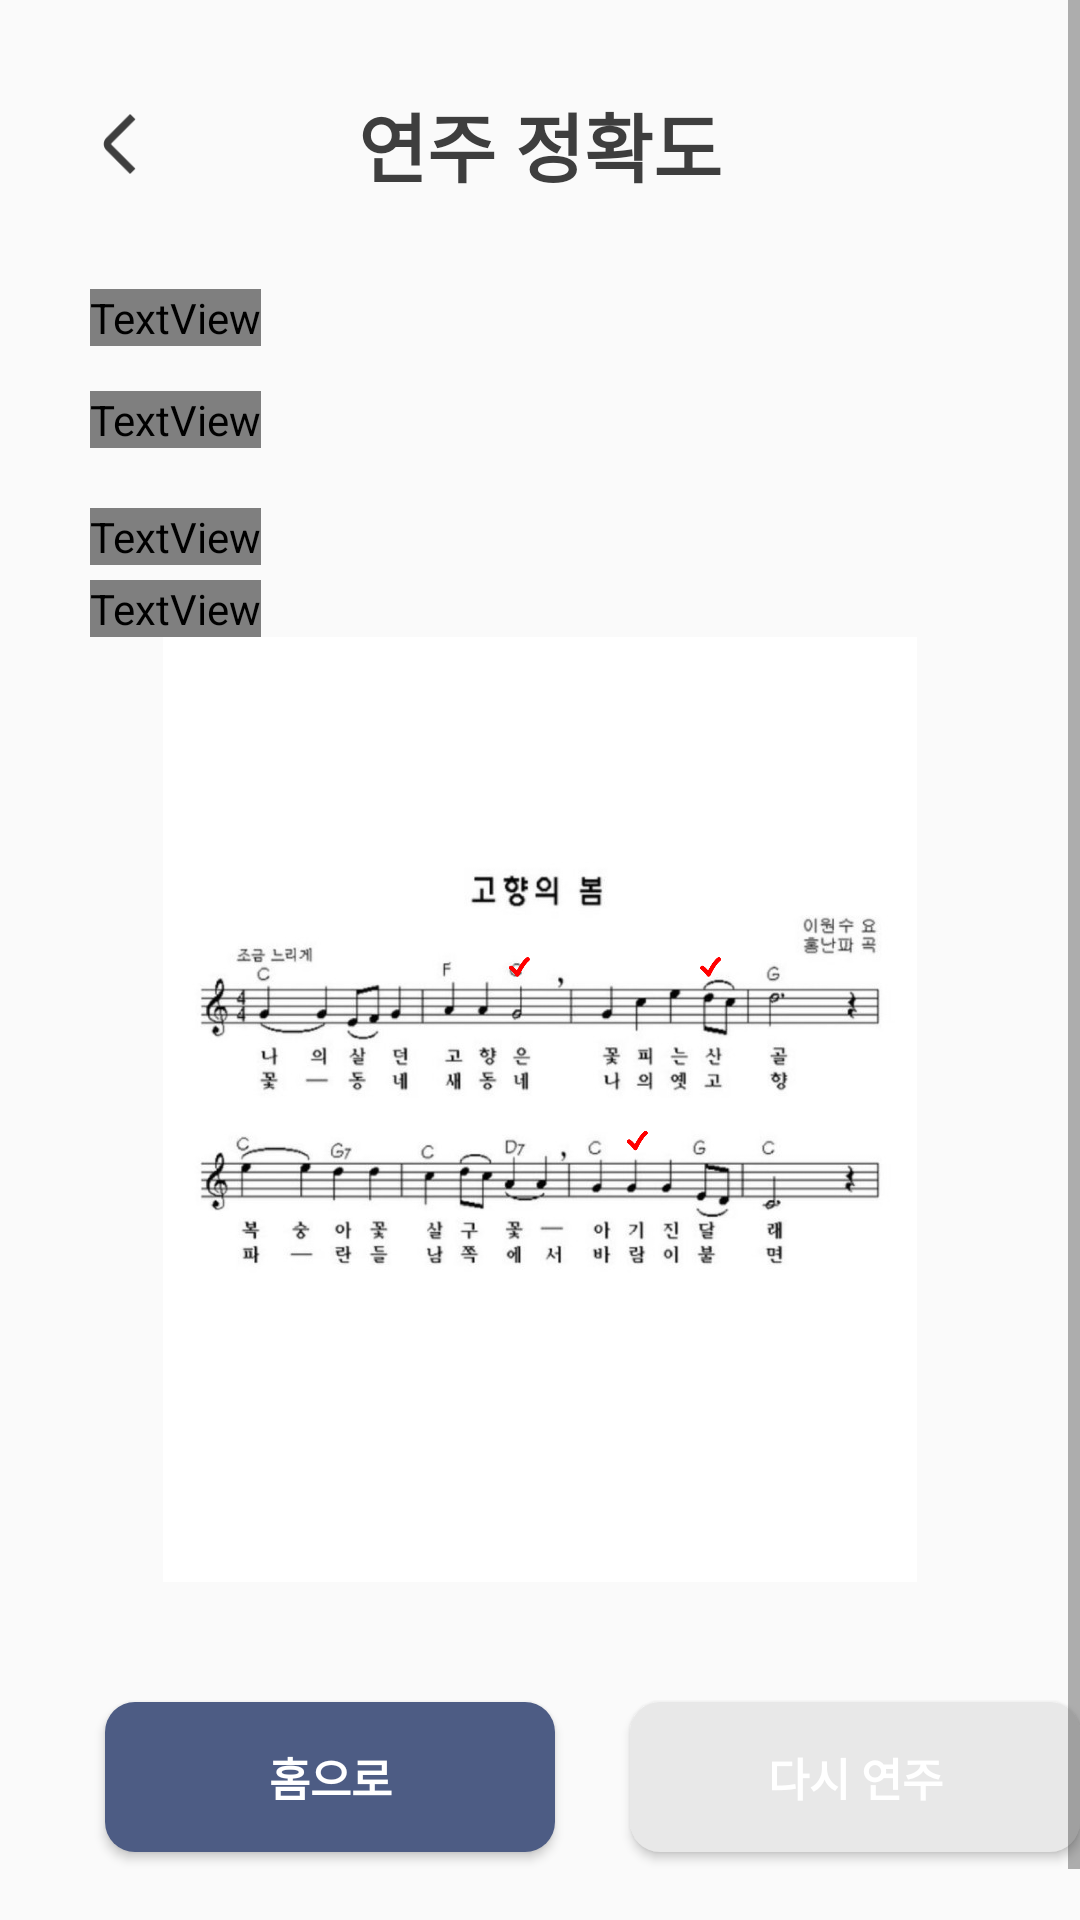

Point at icon controls on the screen. Image size 1080×1920, points as [x,y].
back: [119,144]
